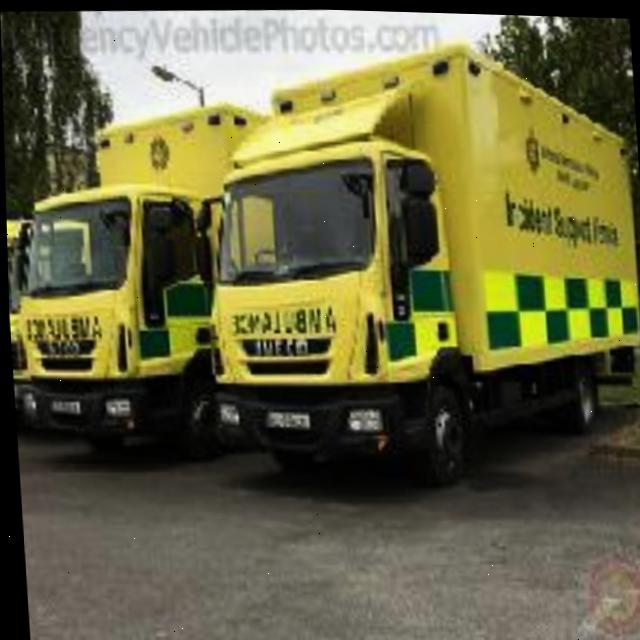emergency: (193, 26, 634, 471), (10, 154, 198, 439)
